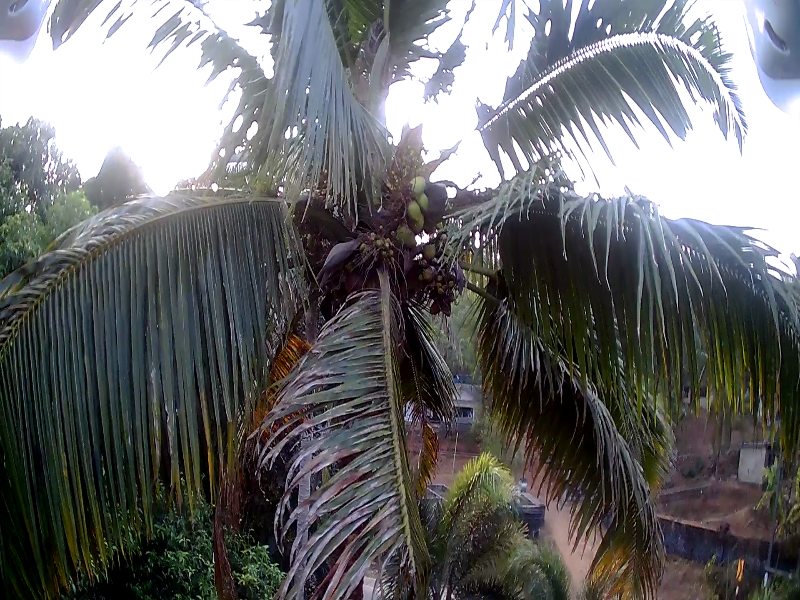coconut: (393, 224, 413, 246), (405, 204, 421, 227), (372, 231, 389, 251), (420, 262, 435, 281), (417, 194, 431, 210), (406, 179, 421, 192), (435, 282, 448, 293), (439, 230, 448, 240), (425, 242, 433, 251)
